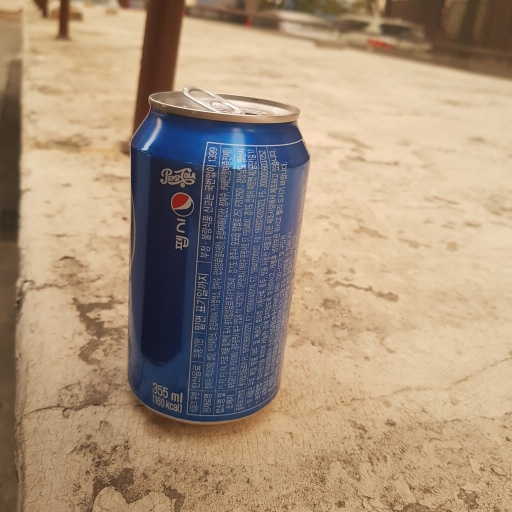Metal_0: (130, 87, 310, 425)
